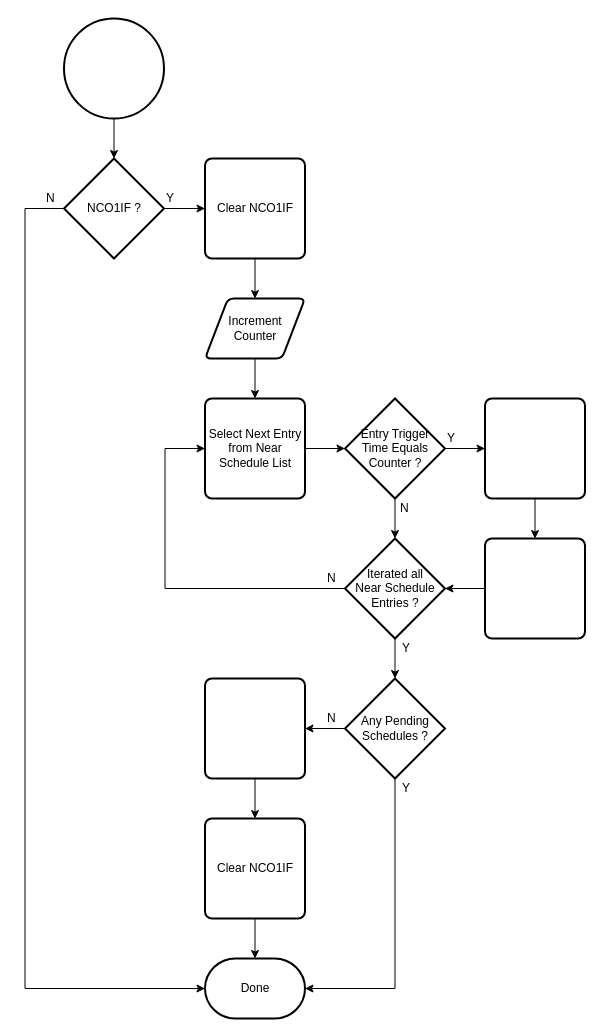
Image size: 603x1036. Some labels were removed from this diagram. The centre of each missing label's shape, as x and y in pixels:
"Disable NCO" goes at point 255,728.
"Dispatch to Entry's Trigger Handler" goes at point 535,448.
"Remove Entry from Near Schedule List" goes at point 535,588.
"Woken From Sleep" goes at point 113,68.
